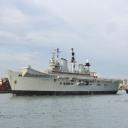Portanaves: (5, 45, 123, 96)
